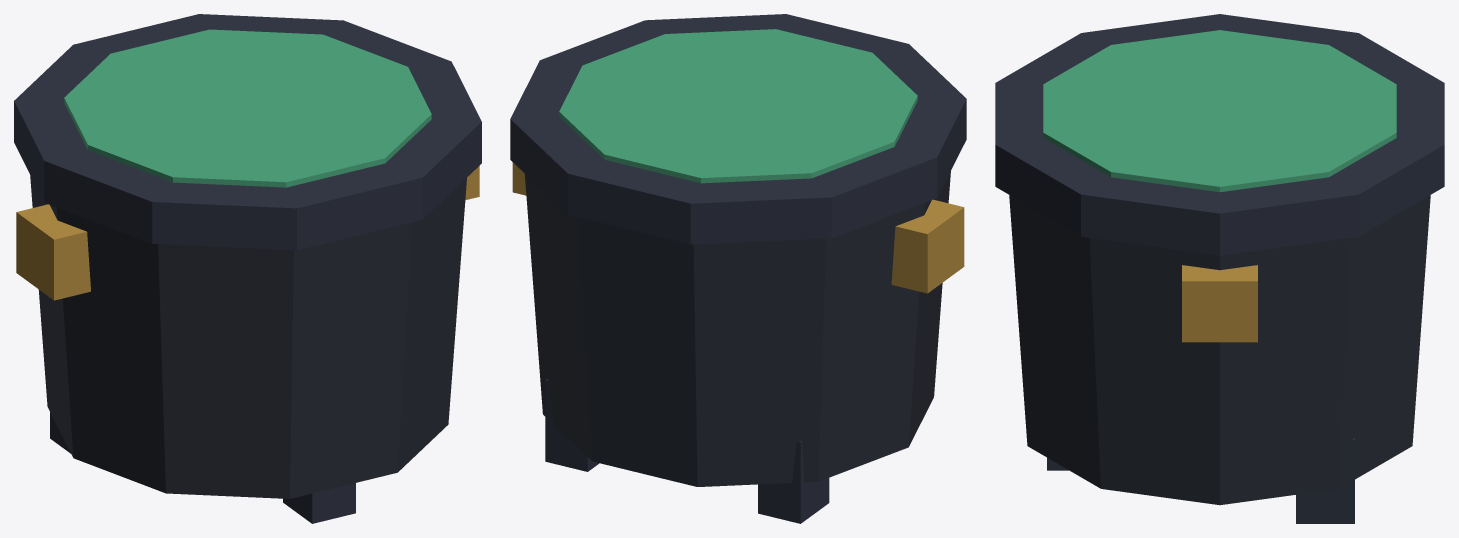
Rendered from cauldron.obj.
3 renders of one model, left to right at view 1: azimuth 30°, elevation 25°; view 2: azimuth 150°, elevation 25°; view 3: azimuth 270°, elevation 25°, orthographic. The views are drawn at different scales.
Visible parts, largest first — view 1: cauldron; view 2: cauldron; view 3: cauldron.
Boxes of the visible parts, x1=… form: cauldron: x1=14, y1=14, x2=481, y2=523; cauldron: x1=510, y1=14, x2=966, y2=523; cauldron: x1=995, y1=14, x2=1444, y2=523.
Size of the model in its own units: 1.17 by 0.919 by 1.07.
